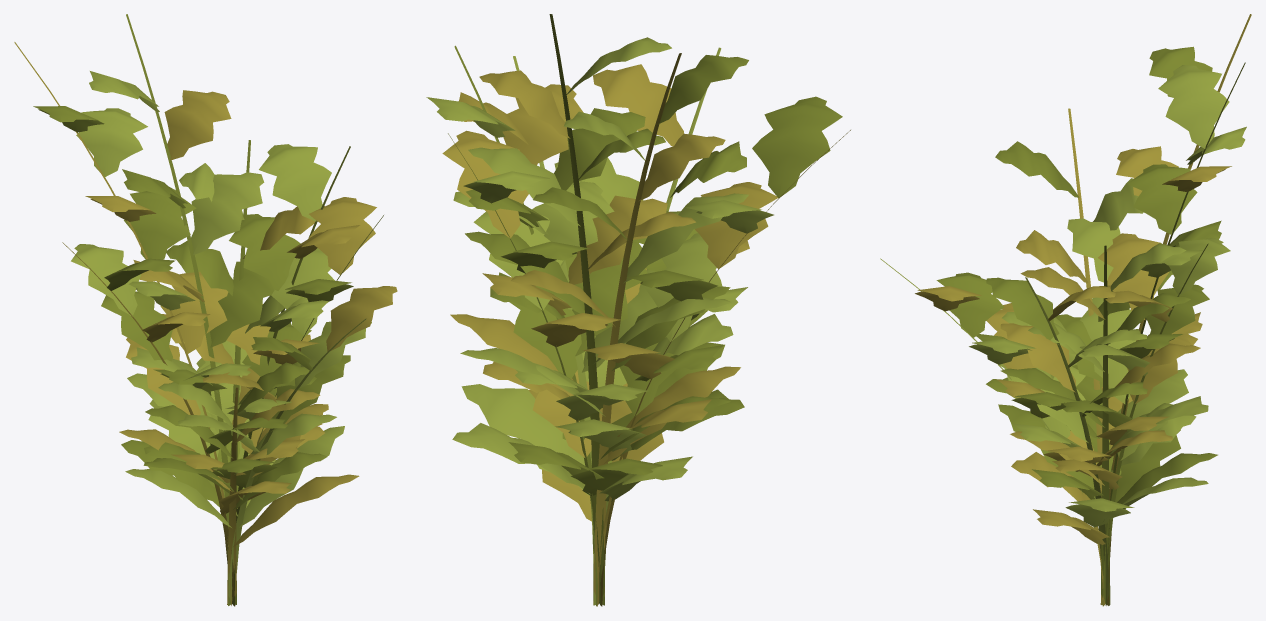
Rendered from algae.glb.
3 views of the same model, side by side, from view 1: azimuth 30°, elevation 25°; view 2: azimuth 150°, elevation 25°; view 3: azimuth 270°, elevation 25° (orthographic). The views are drawn at different scales.
Parts seen in each view (by area): view 1: SOURCE_algae; view 2: SOURCE_algae; view 3: SOURCE_algae.
Boxes of the visible parts, left/top/right/bottom form: SOURCE_algae: left=14, top=14, right=397, bottom=606; SOURCE_algae: left=426, top=14, right=850, bottom=606; SOURCE_algae: left=880, top=14, right=1251, bottom=606.
Size of the model in its own units: 0.8191 by 1.34 by 0.8592.
